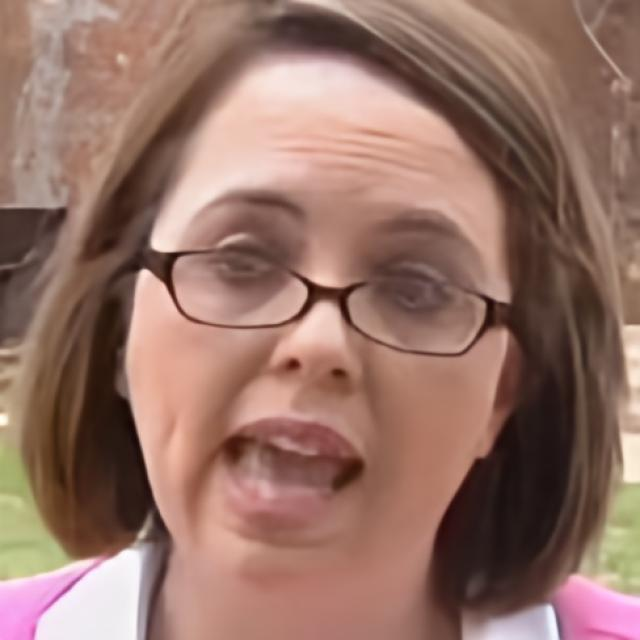surprise: (126, 46, 514, 594)
